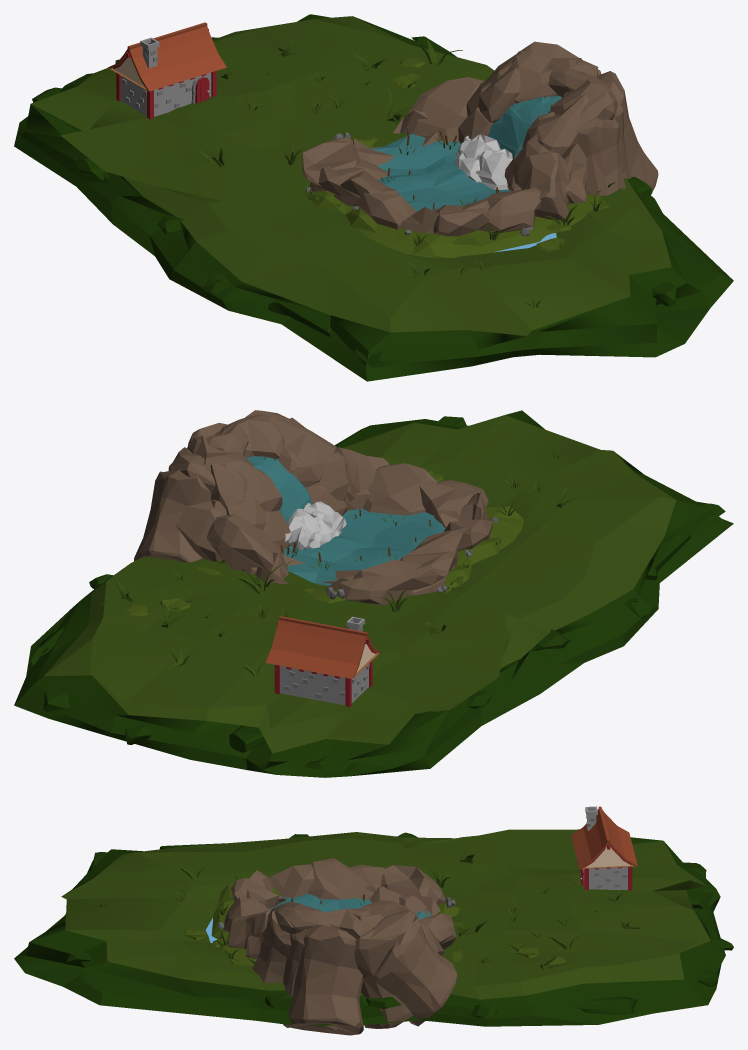
File: house5.fbx
3 renders of one model, top to bottom at view 1: azimuth 30°, elevation 25°; view 2: azimuth 150°, elevation 25°; view 3: azimuth 270°, elevation 25°, orthographic. The views are drawn at different scales.
Parts seen in each view (by area): view 1: Nature, Object_14, Object_22, Object_8, Houseroof, Object_5, Housemain, Object_18, Object_9.002; view 2: Nature, Object_14, Object_22, Houseroof, Object_8, Object_5, Housemain, Object_9.002; view 3: Nature, Object_14, Houseroof, Object_8, Object_22, Housemain, Housemain.002, Object_18, Object_9.002.
Boxes of the visible parts, x1=… form: Nature: x1=14, y1=14, x2=733, y2=381; Object_14: x1=302, y1=41, x2=658, y2=236; Object_22: x1=371, y1=95, x2=562, y2=211; Object_8: x1=301, y1=133, x2=609, y2=257; Houseroof: x1=108, y1=22, x2=226, y2=91; Object_5: x1=453, y1=134, x2=512, y2=189; Housemain: x1=120, y1=72, x2=211, y2=116; Object_18: x1=281, y1=111, x2=604, y2=245; Object_9.002: x1=309, y1=58, x2=425, y2=114; Nature: x1=14, y1=410, x2=733, y2=777; Object_14: x1=134, y1=410, x2=492, y2=605; Object_22: x1=246, y1=456, x2=445, y2=586; Houseroof: x1=265, y1=616, x2=380, y2=678; Object_8: x1=196, y1=456, x2=523, y2=603; Object_5: x1=285, y1=501, x2=346, y2=549; Housemain: x1=275, y1=664, x2=368, y2=705; Object_9.002: x1=127, y1=598, x2=288, y2=618; Nature: x1=14, y1=829, x2=733, y2=1026; Object_14: x1=224, y1=858, x2=457, y2=1035; Houseroof: x1=571, y1=806, x2=637, y2=868; Object_8: x1=211, y1=877, x2=461, y2=965; Object_22: x1=269, y1=893, x2=430, y2=919; Housemain: x1=589, y1=867, x2=627, y2=890; Housemain.002: x1=581, y1=846, x2=635, y2=868; Object_18: x1=214, y1=868, x2=470, y2=958; Object_9.002: x1=507, y1=901, x2=565, y2=964.
Bounding box in the file's own units: 4243 × 1351 × 6792.
